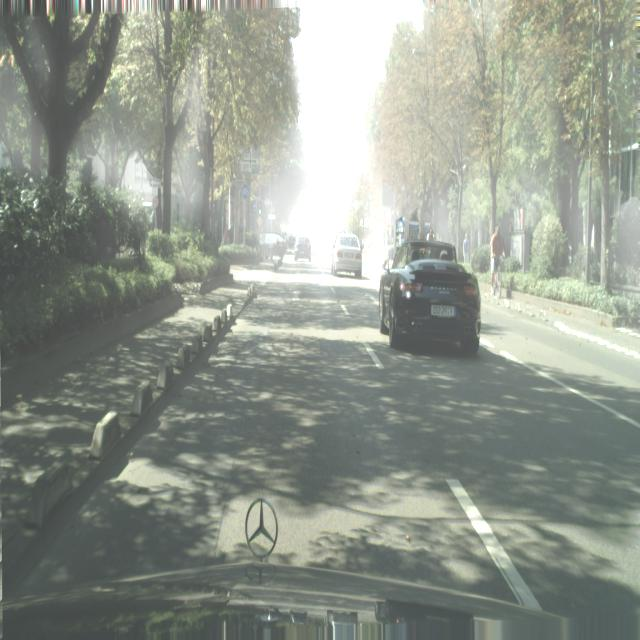car: (490, 224, 505, 296)
person: (463, 232, 470, 262)
truck: (378, 240, 482, 356), (331, 232, 362, 277), (259, 232, 287, 268), (294, 234, 312, 262)
